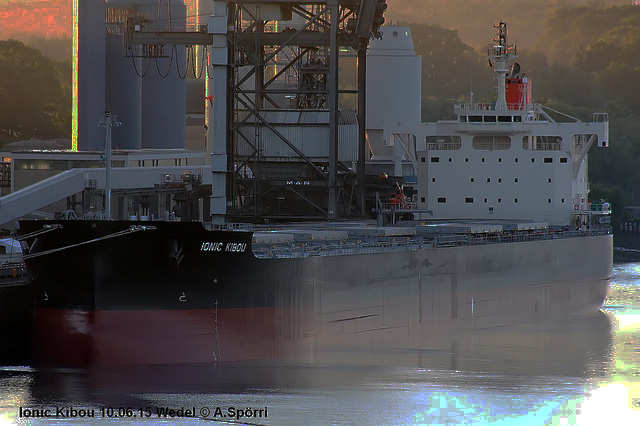bulk carrier: (25, 34, 615, 366)
